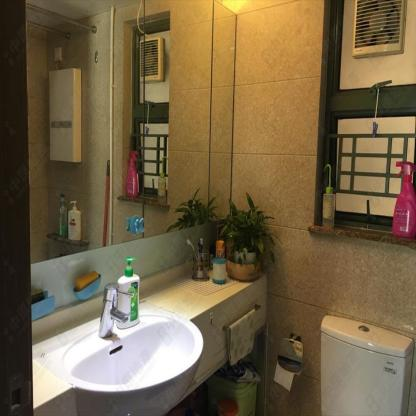Exhaust Fan: (352, 0, 404, 54), (139, 37, 164, 84)
Faucet: (98, 279, 122, 342)
Toilet: (320, 311, 416, 415)
Toilet Sink: (60, 315, 204, 413)
